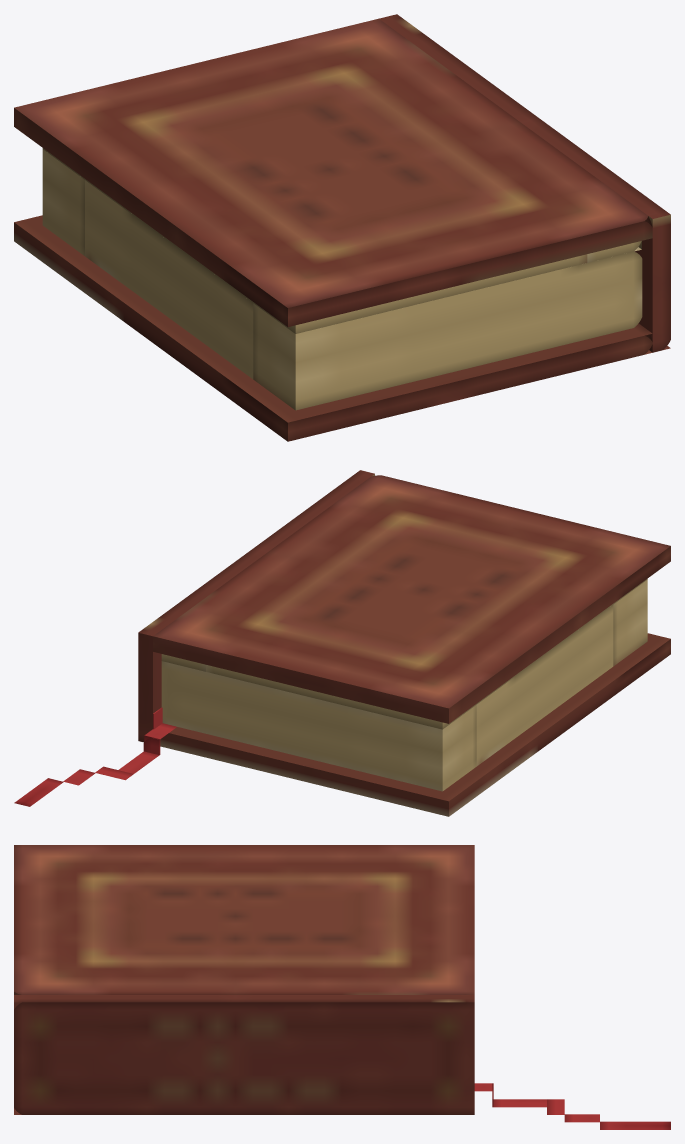
The model's file is book-with-key.fbx.
3 renders of one model, top to bottom at view 1: azimuth 30°, elevation 25°; view 2: azimuth 150°, elevation 25°; view 3: azimuth 270°, elevation 25°, orthographic. The views are drawn at different scales.
Parts seen in each view (by area): view 1: 263, 92, 403, 78, 375, 162, 35; view 2: 263, 162, 403, 78, 375, 35, 92, 277; view 3: 263, 375, 277, 319.
Boxes of the visible parts, bbox=[...] form: 263: bbox=[14, 18, 652, 326]; 92: bbox=[253, 247, 642, 410]; 403: bbox=[14, 215, 652, 441]; 78: bbox=[85, 180, 253, 379]; 375: bbox=[379, 14, 670, 352]; 162: bbox=[42, 149, 84, 255]; 35: bbox=[42, 148, 587, 333]; 263: bbox=[153, 475, 670, 723]; 162: bbox=[161, 661, 476, 791]; 403: bbox=[160, 633, 670, 816]; 78: bbox=[476, 605, 613, 766]; 375: bbox=[138, 470, 374, 742]; 35: bbox=[206, 579, 647, 729]; 92: bbox=[613, 580, 647, 666]; 277: bbox=[14, 778, 63, 806]; 263: bbox=[14, 845, 474, 994]; 375: bbox=[14, 995, 474, 1114]; 277: bbox=[600, 1121, 670, 1129]; 319: bbox=[493, 1099, 546, 1107].
Size of the model in its own units: 2300 by 700 by 3708.
Materials: 1 (1 with a texture image).
